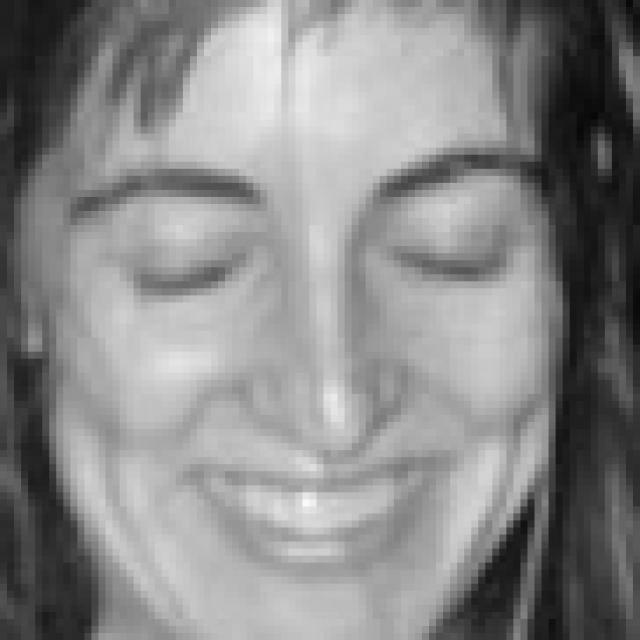real: (64, 0, 544, 612), (98, 170, 544, 314)
